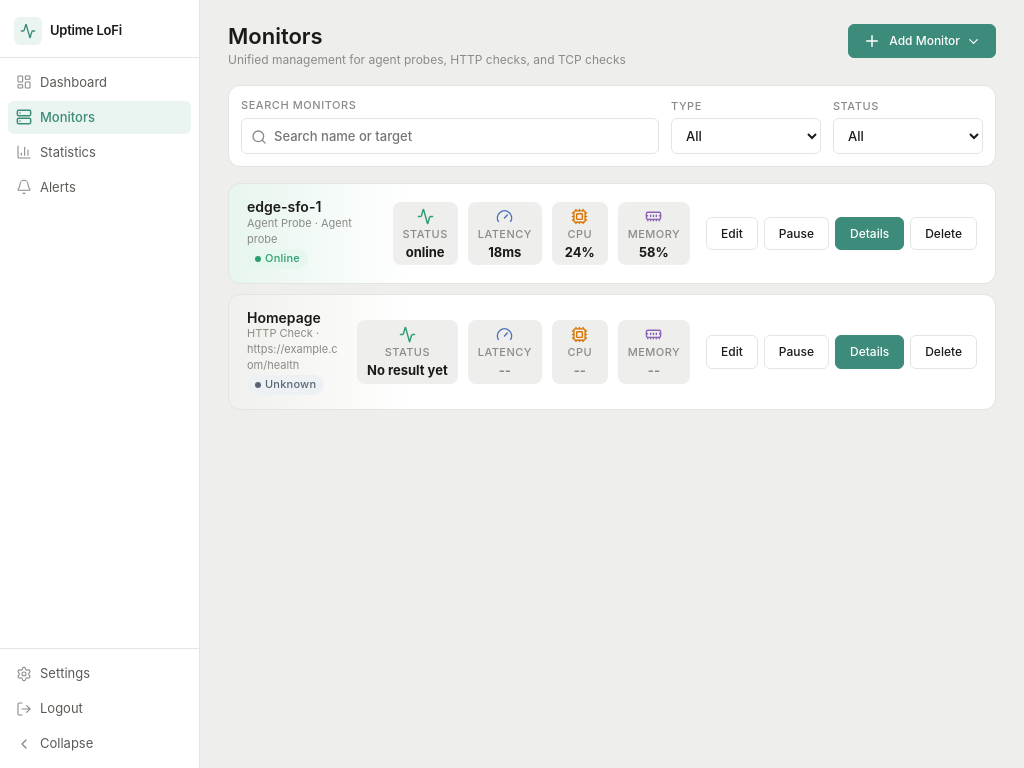
it: Monitors page › shows the backend probe configuration error when command generation fails
Click the button "Monitors" at (100, 117), box [8,101,191,134]
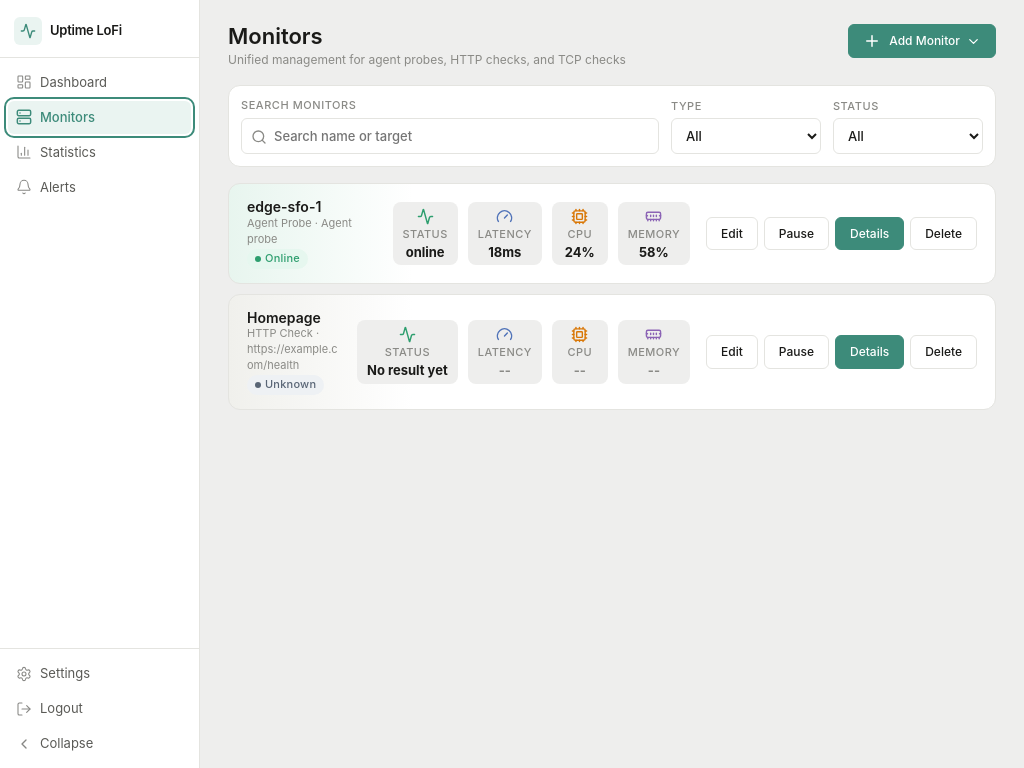
Click the button "Add Monitor" at (922, 41), box [848,24,996,58]
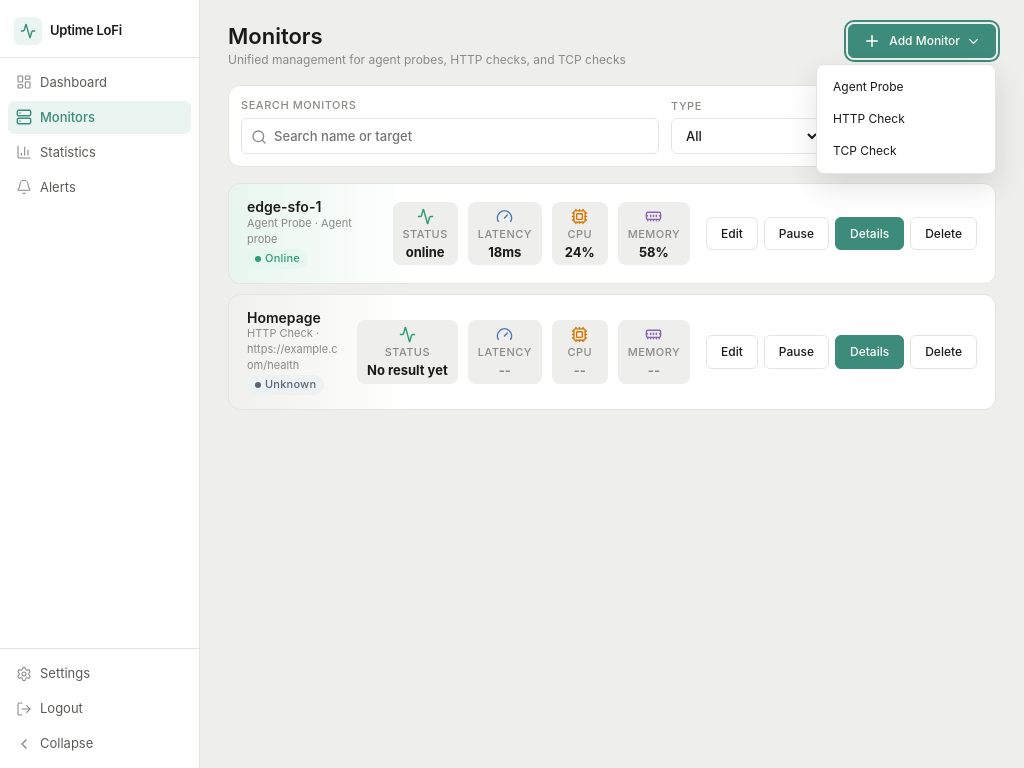
Click the menu item "Agent Probe" at (906, 87), box [823,71,989,103]
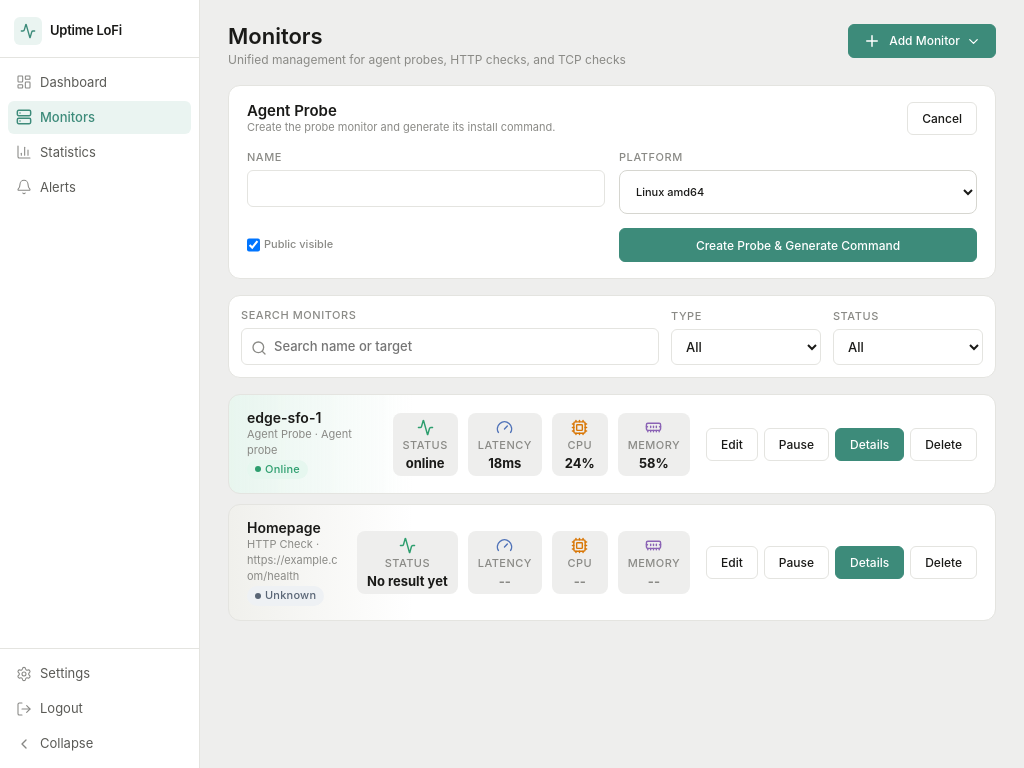
Type "prod-vps-1" into the field labelled "Name" at (426, 189), box [247,170,605,207]
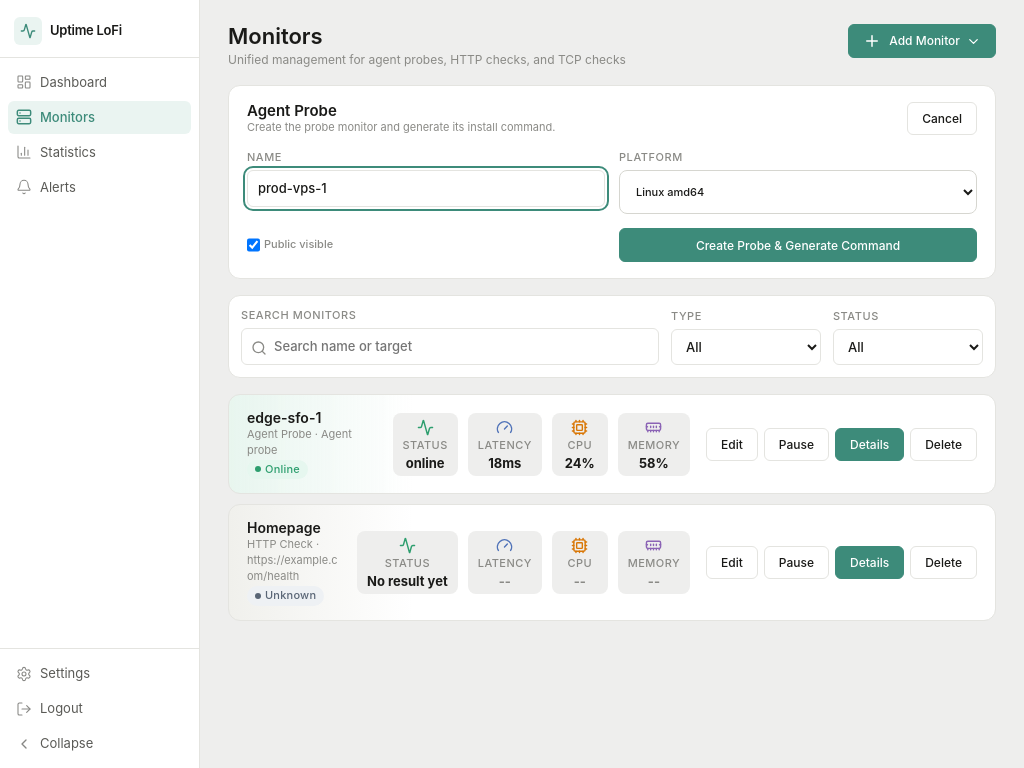
Click the button "Create Probe & Generate Command" at (798, 245), box [619,228,977,262]
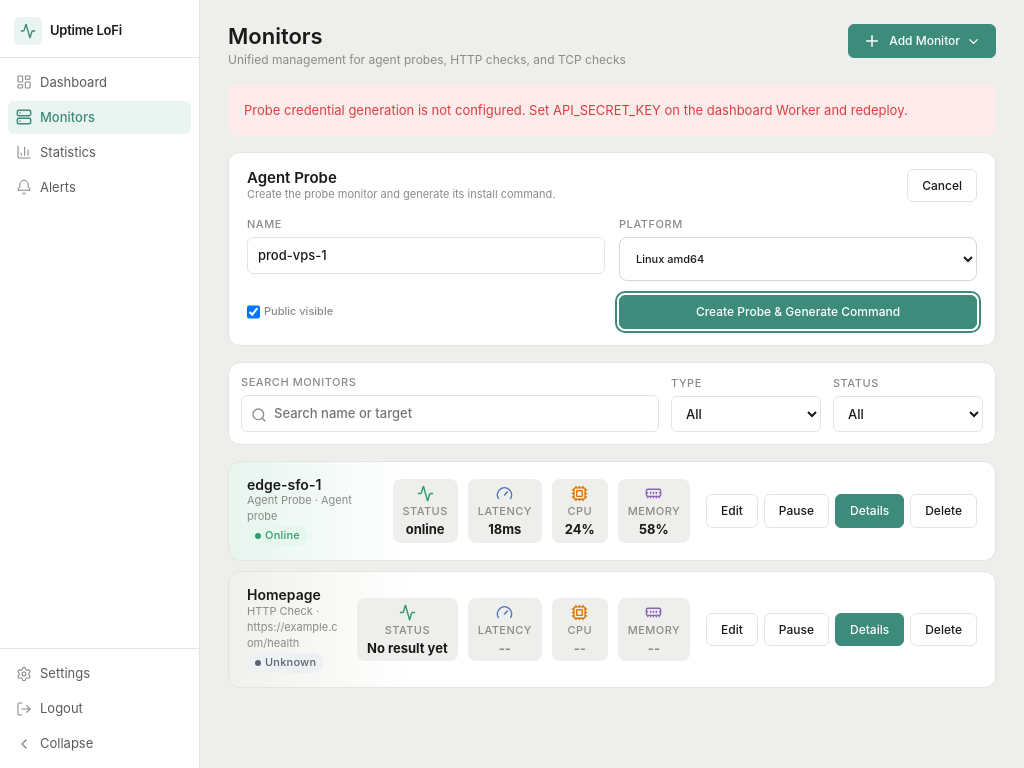
Check: the message shows "Probe credential generation is not configured. Set API_SECRET_KEY on the dashboard Worker and redeploy.", box [244,102,908,118]
